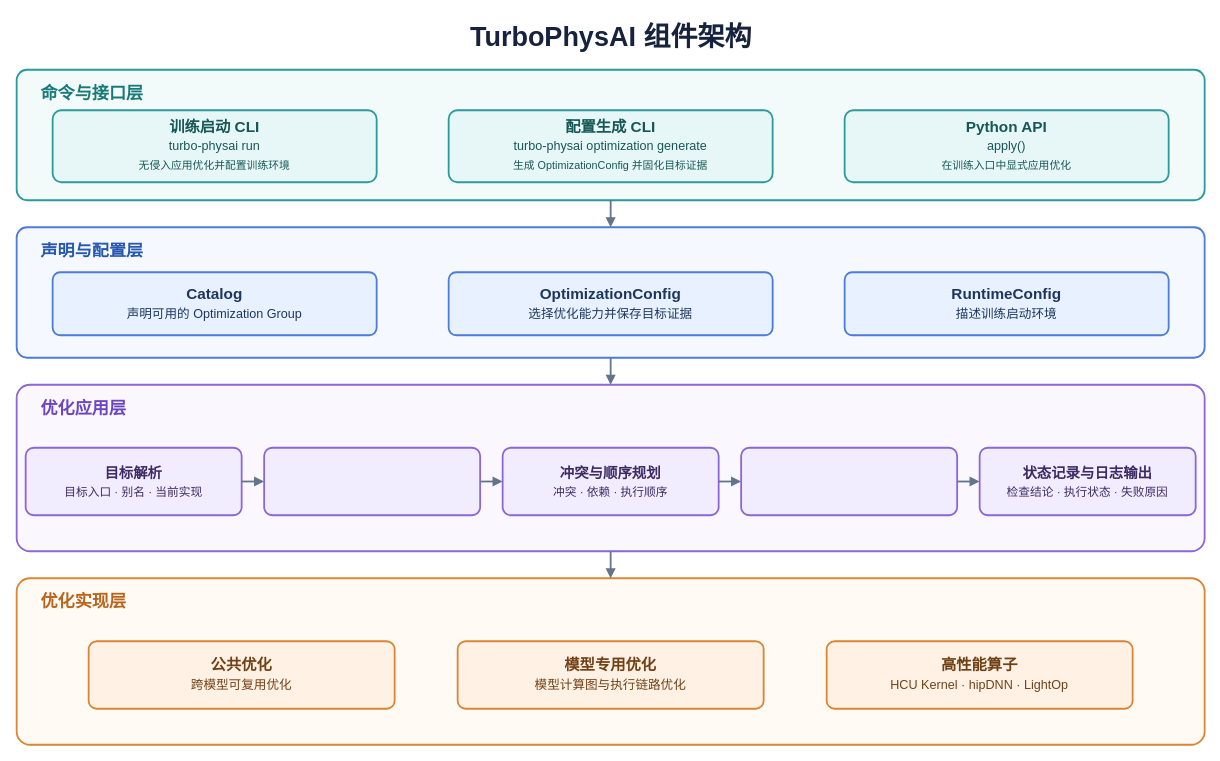
The diagram is 1220 pixels wide and 761 high, and some of its shapes have lost their labels. Each missing label, with the centre of its shape:
优化执行与回滚 快照 · 安装 · 失败恢复: the point at 849,481
应用条件检查 环境 · 源码证据 · 签名: the point at 372,481
